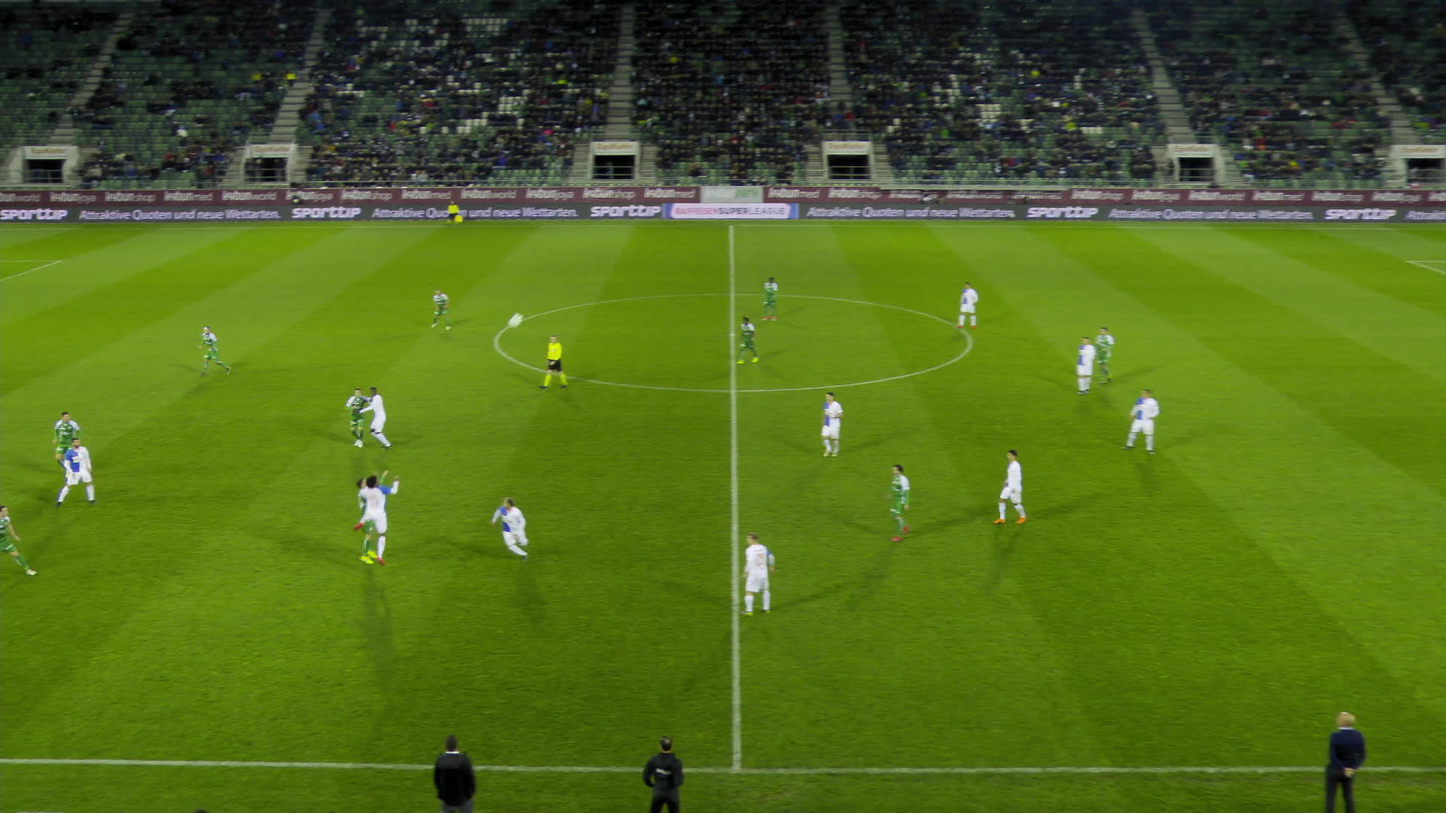ball: (508, 314, 521, 327)
player: (353, 476, 398, 564), (984, 446, 1029, 529), (725, 533, 765, 620), (355, 470, 387, 563), (485, 498, 526, 565), (55, 438, 96, 505), (1115, 388, 1155, 455), (871, 464, 905, 542), (0, 506, 35, 574), (358, 386, 392, 449), (811, 394, 840, 459), (53, 411, 80, 477), (343, 388, 372, 447), (197, 327, 230, 375), (423, 291, 452, 334), (1093, 325, 1113, 383), (1075, 336, 1094, 392), (956, 282, 977, 327), (731, 318, 750, 367), (752, 280, 768, 324)
referee: (534, 336, 557, 392), (444, 199, 463, 227)
